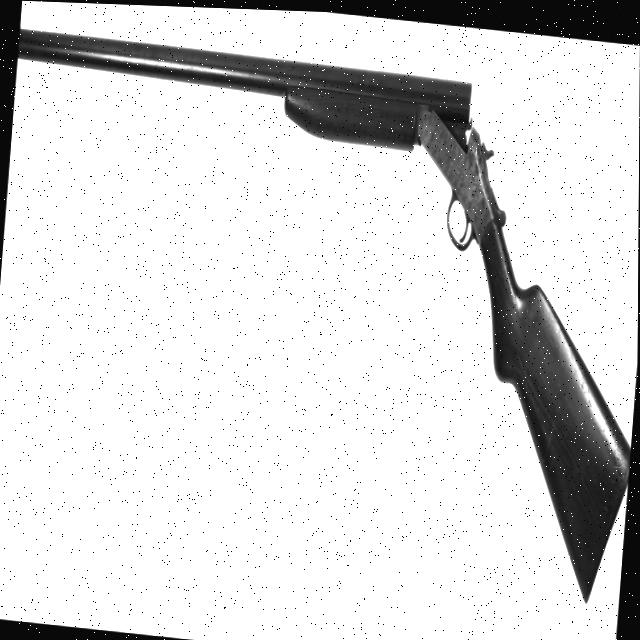firearm: (0, 24, 640, 604)
